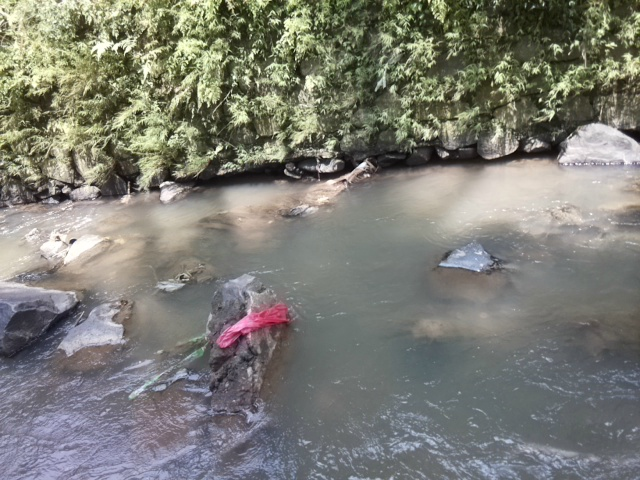Sampah_Plastik: (211, 298, 294, 350)
